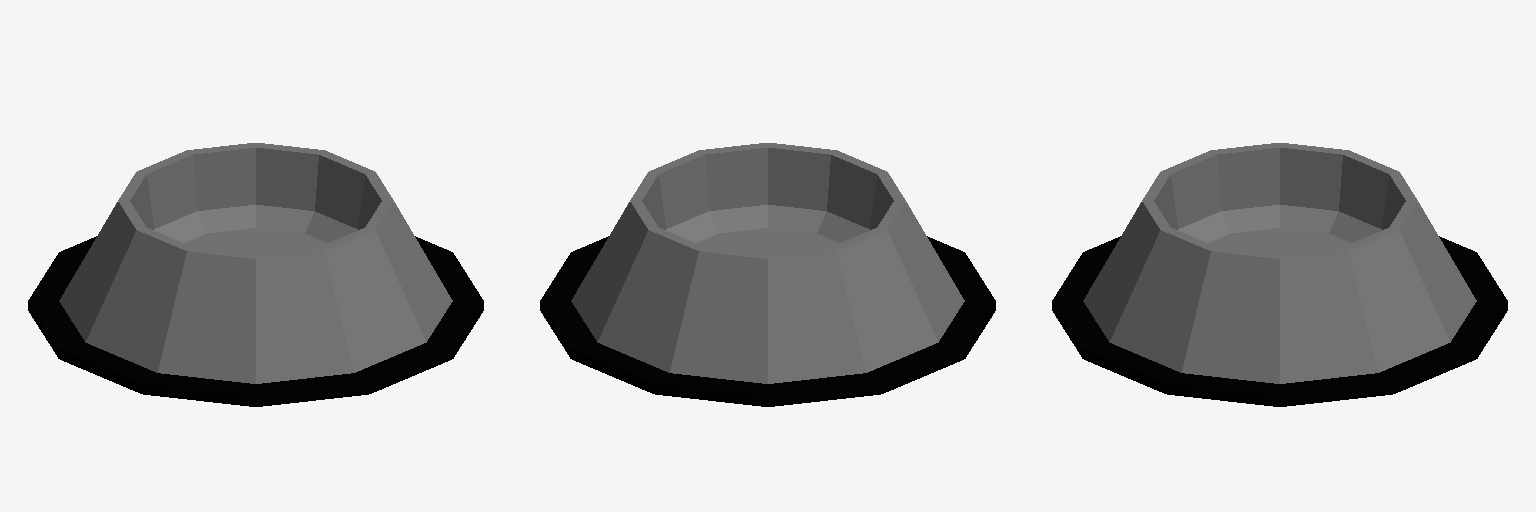
The model's file is food_bowl2.obj.
The picture shows the model from 3 angles: view 1: azimuth 30°, elevation 25°; view 2: azimuth 150°, elevation 25°; view 3: azimuth 270°, elevation 25°; orthographic projection.
Visible parts, largest first — view 1: food_bowl.001; view 2: food_bowl.001; view 3: food_bowl.001.
Boxes of the visible parts, box(x1,y1,x2,y2) form: food_bowl.001: box(28, 143, 483, 406); food_bowl.001: box(540, 143, 995, 406); food_bowl.001: box(1052, 143, 1507, 406).
Size of the model in its own units: 3.77 by 1.01 by 3.77.